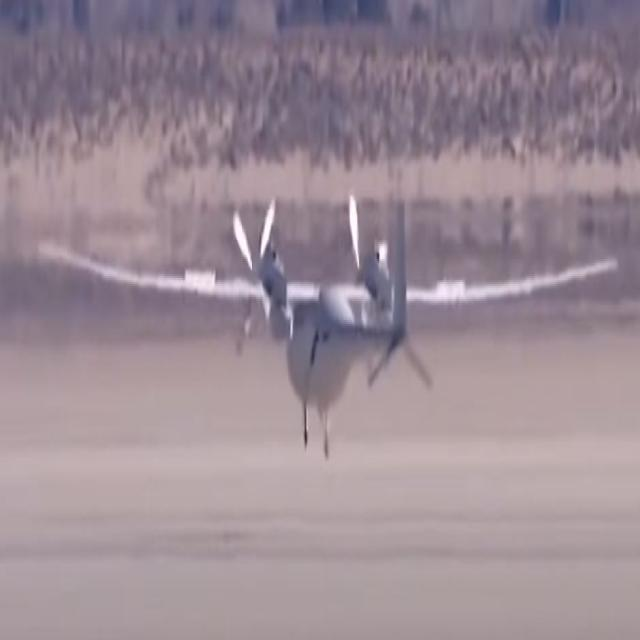iha: (31, 184, 612, 465)
